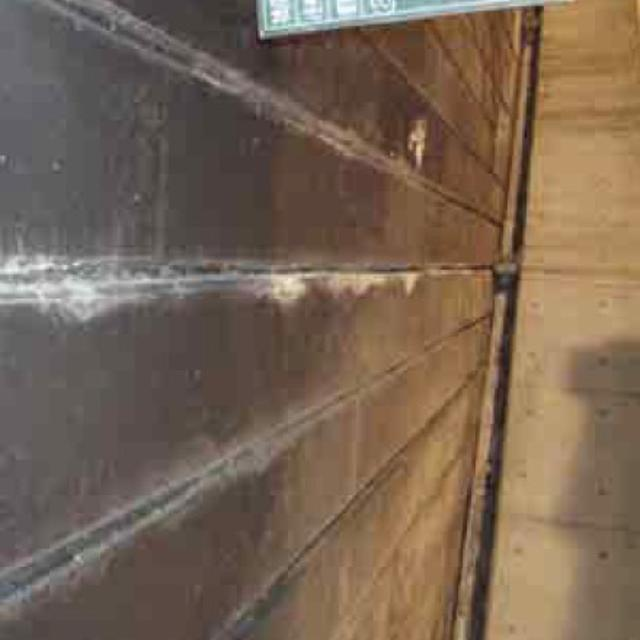freelime: (16, 244, 446, 317)
